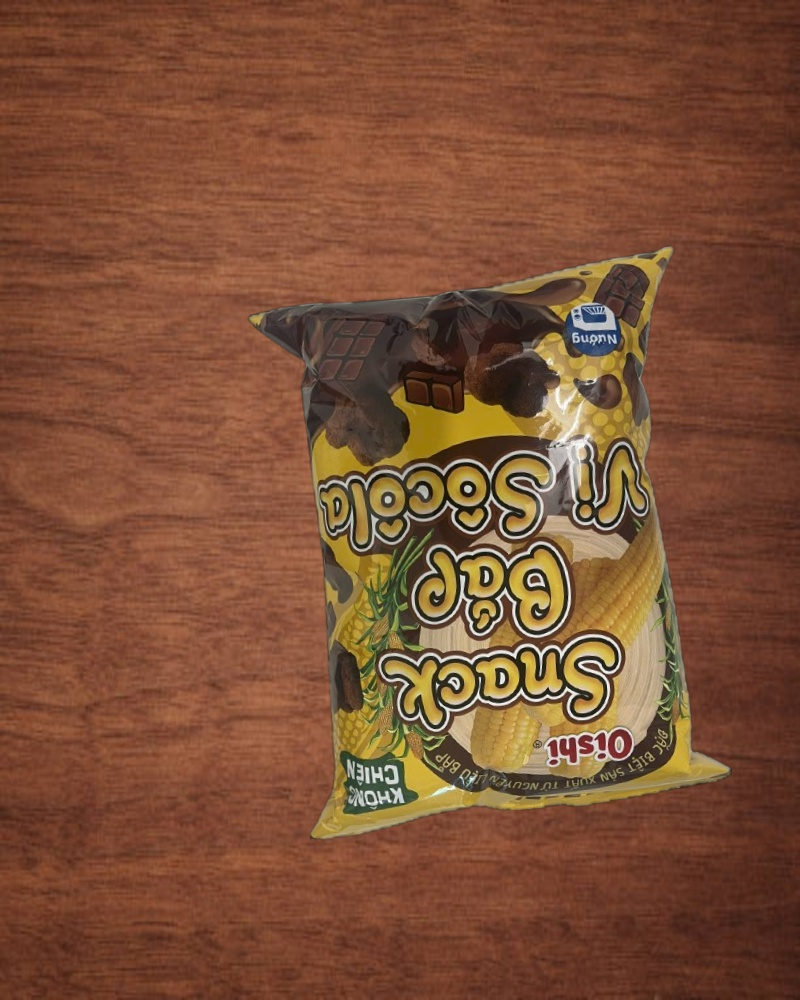Snack socola: (248, 248, 735, 840)
